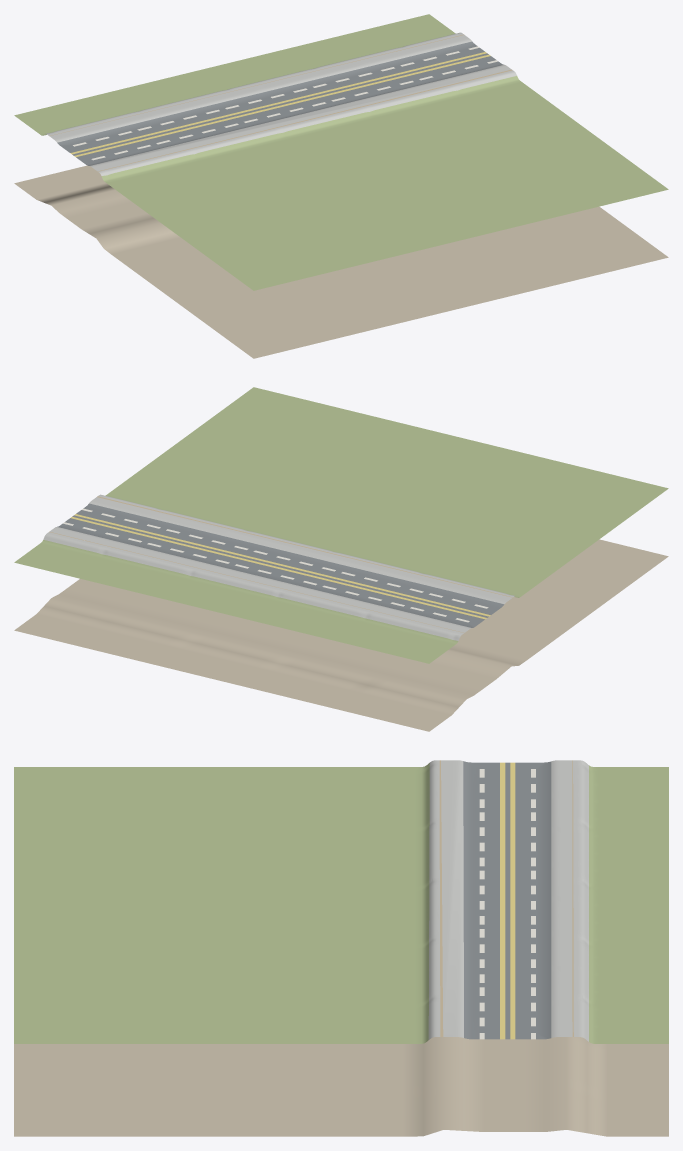
3 views of the same model, one above another, from view 1: azimuth 30°, elevation 25°; view 2: azimuth 150°, elevation 25°; view 3: azimuth 270°, elevation 25° (orthographic). The views are drawn at different scales.
Visible parts, largest first — view 1: s_-9_-6__grass, s_-9_-6__soil, s_-9_-6__asphalt, s_-9_-6__stone_paving, s_-9_-6__yellow_marking, s_-9_-6__white_marking, s_-9_-6__timber_deck; view 2: s_-9_-6__grass, s_-9_-6__soil, s_-9_-6__stone_paving, s_-9_-6__asphalt, s_-9_-6__yellow_marking, s_-9_-6__white_marking, s_-9_-6__timber_deck; view 3: s_-9_-6__grass, s_-9_-6__soil, s_-9_-6__asphalt, s_-9_-6__stone_paving, s_-9_-6__yellow_marking, s_-9_-6__white_marking, s_-9_-6__timber_deck.
Boxes of the visible parts, bbox=[...] form: s_-9_-6__grass: bbox=[14, 14, 668, 290]; s_-9_-6__soil: bbox=[14, 165, 668, 358]; s_-9_-6__asphalt: bbox=[57, 41, 503, 165]; s_-9_-6__stone_paving: bbox=[45, 32, 516, 175]; s_-9_-6__yellow_marking: bbox=[70, 52, 490, 156]; s_-9_-6__white_marking: bbox=[73, 46, 497, 160]; s_-9_-6__timber_deck: bbox=[49, 34, 512, 171]; s_-9_-6__grass: bbox=[14, 387, 668, 663]; s_-9_-6__soil: bbox=[14, 539, 668, 731]; s_-9_-6__stone_paving: bbox=[43, 494, 514, 640]; s_-9_-6__asphalt: bbox=[57, 503, 504, 627]; s_-9_-6__yellow_marking: bbox=[71, 514, 490, 619]; s_-9_-6__white_marking: bbox=[63, 508, 488, 622]; s_-9_-6__timber_deck: bbox=[49, 496, 512, 632]; s_-9_-6__grass: bbox=[14, 763, 668, 1043]; s_-9_-6__soil: bbox=[14, 1037, 668, 1136]; s_-9_-6__asphalt: bbox=[463, 761, 551, 1039]; s_-9_-6__stone_paving: bbox=[428, 760, 588, 1041]; s_-9_-6__yellow_marking: bbox=[500, 762, 515, 1039]; s_-9_-6__white_marking: bbox=[479, 769, 535, 1039]; s_-9_-6__timber_deck: bbox=[439, 760, 573, 1036].
Size of the model in its own units: 128 by 21.51 by 128.
